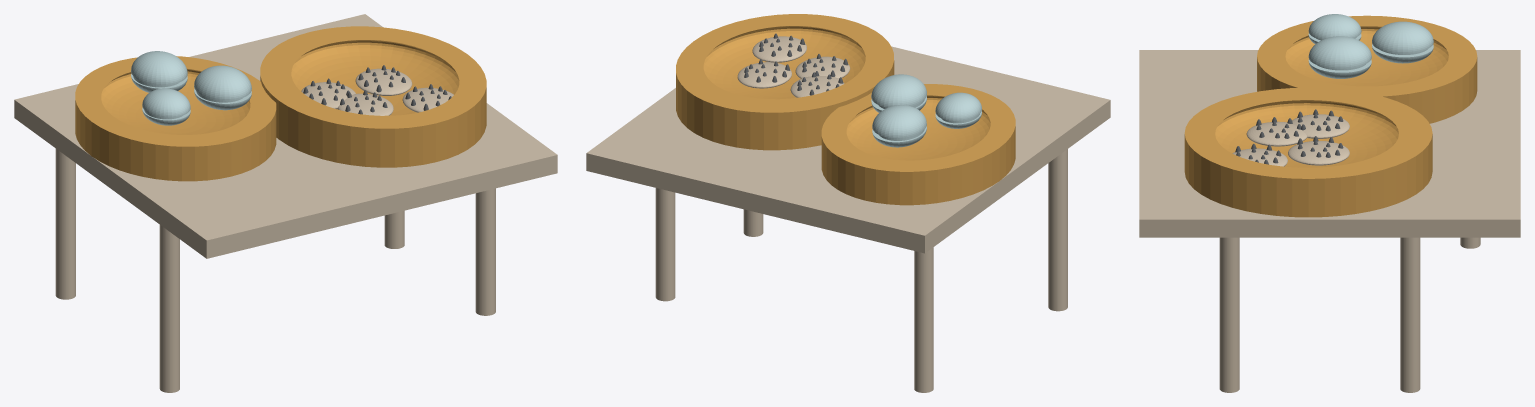
File: Molly P Dessert Table.glb
The picture shows the model from 3 angles, left to right: view 1: azimuth 30°, elevation 25°; view 2: azimuth 150°, elevation 25°; view 3: azimuth 270°, elevation 25°; orthographic projection. The views are drawn at different scales.
Visible parts, largest first — view 1: Mesh_Mesh_head_geo.001_lambert2SG.001; view 2: Mesh_Mesh_head_geo.001_lambert2SG.001; view 3: Mesh_Mesh_head_geo.001_lambert2SG.001.
Boxes of the visible parts, box(x1,y1,x2,y2) form: Mesh_Mesh_head_geo.001_lambert2SG.001: box(14, 14, 557, 392); Mesh_Mesh_head_geo.001_lambert2SG.001: box(586, 14, 1110, 392); Mesh_Mesh_head_geo.001_lambert2SG.001: box(1139, 14, 1520, 392).
Bounding box in the file's own units: 0.1063 × 0.0728 × 0.101.
